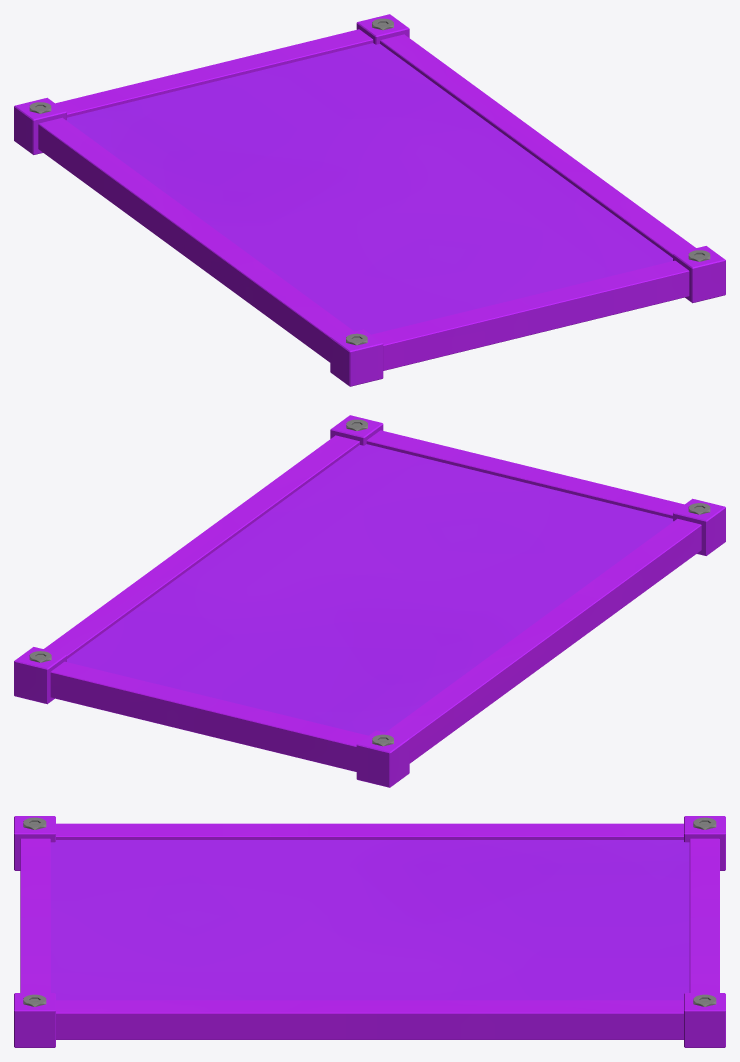
File: DoubleFramedPlatformPink.fbx
The picture shows the model from 3 angles, top to bottom: view 1: azimuth 30°, elevation 25°; view 2: azimuth 150°, elevation 25°; view 3: azimuth 270°, elevation 25°; orthographic projection. The views are drawn at different scales.
Parts seen in each view (by area): view 1: Cube, Cube.001; view 2: Cube, Cube.001; view 3: Cube, Cube.001.
Boxes of the visible parts, left/top/right/bottom form: Cube: left=14, top=14, right=725, bottom=386; Cube.001: left=29, top=18, right=710, bottom=345; Cube: left=14, top=415, right=725, bottom=787; Cube.001: left=29, top=419, right=710, bottom=746; Cube: left=14, top=816, right=725, bottom=1047; Cube.001: left=23, top=817, right=716, bottom=1006.
Bounding box in the file's own units: 11 × 1.05 × 17.
